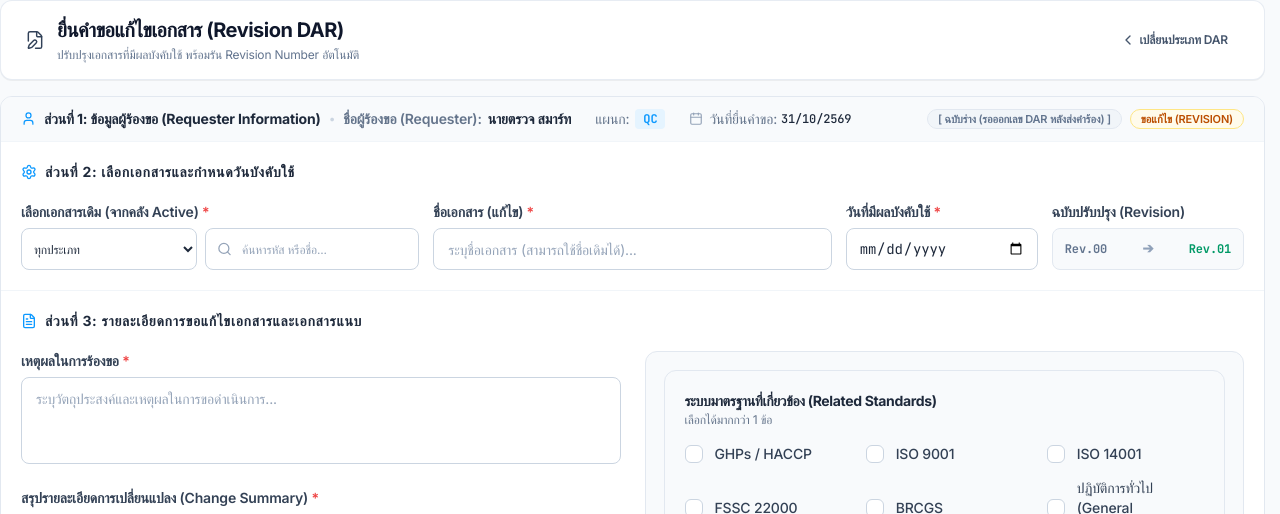
DAR Document Code Resolution & Form Standardization › 2. DAR Revision Form UI: Dropdown & Selected State › filters documents in dropdown by both document code and document title
# Search by code: "WI"
Type "WI" into the field with placeholder "ค้นหารหัส หรือชื่อ..." at x=312, y=249, box [205,228,419,270]
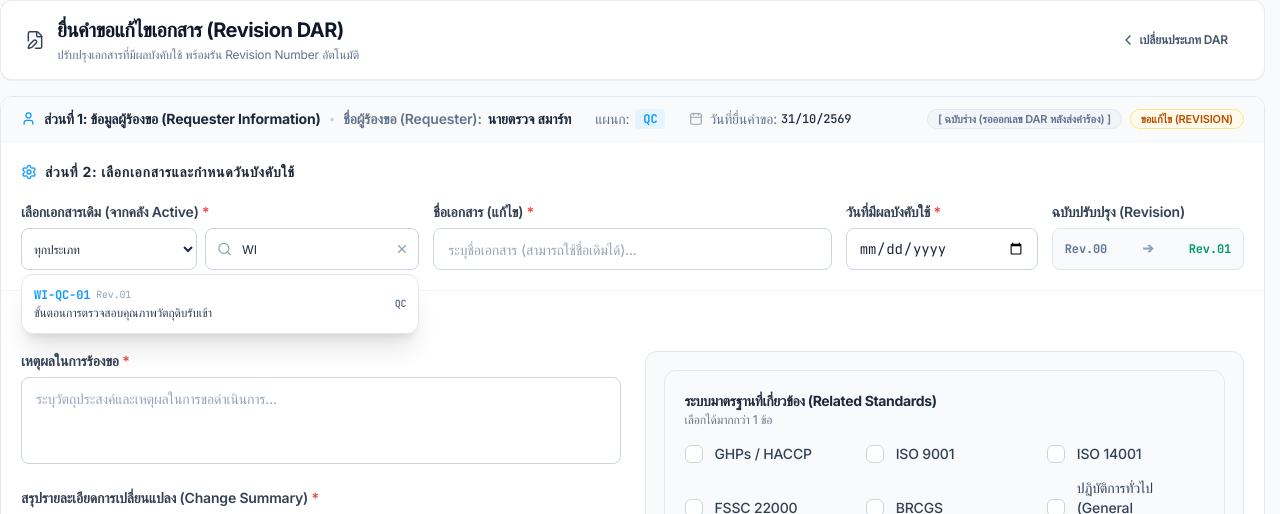
Expected: the text "WI-QC-01" is shown, [34,287,90,303]
# Search by Thai name: "วัตถุดิบ"
Replace the text in the field with placeholder "ค้นหารหัส หรือชื่อ..." with "วัตถุดิบ" at x=312, y=249, box [205,228,419,270]
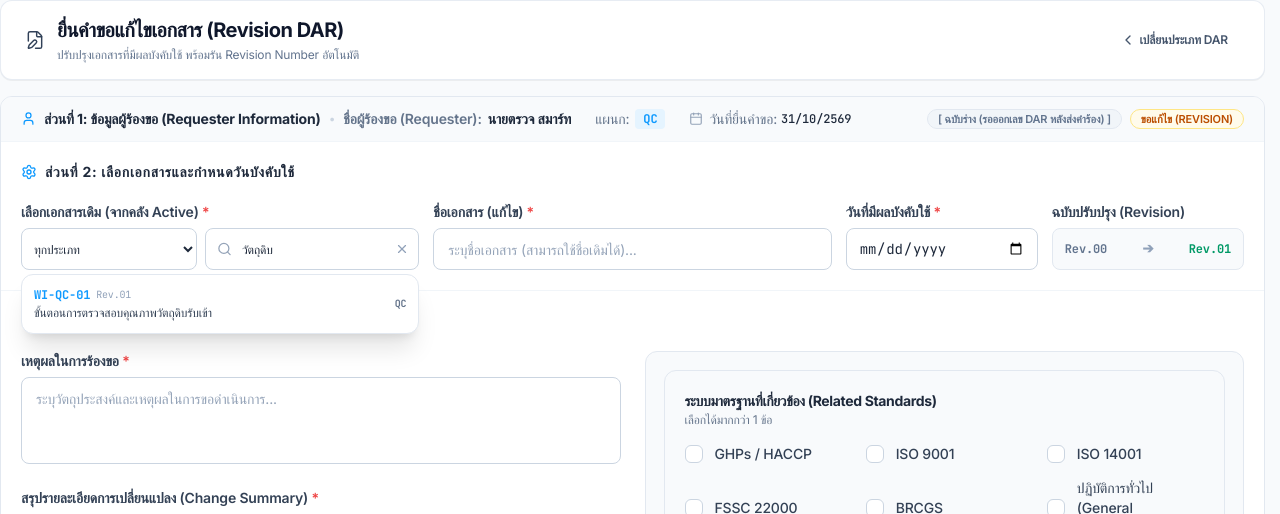
Expected: the text "WI-QC-01" is shown, [34,287,90,303]
# Search non-existent
Replace the text in the field with placeholder "ค้นหารหัส หรือชื่อ..." with "NONEXISTENT-CODE-999" at x=312, y=249, box [205,228,419,270]
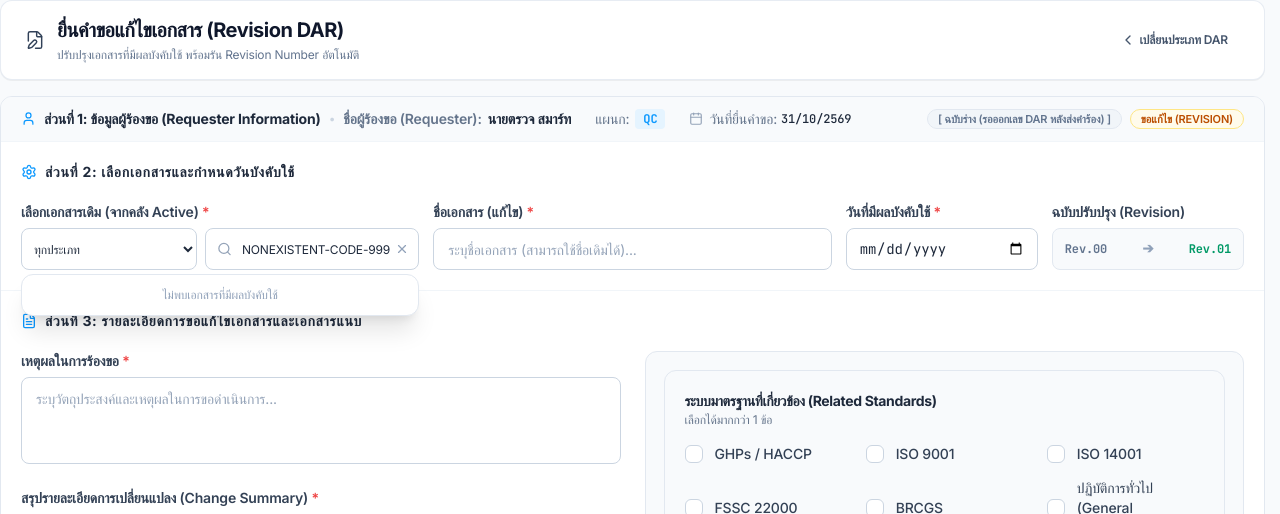
Expected: the text "ไม่พบเอกสารที่มีผลบังคับใช้" is shown, [162,287,278,302]
